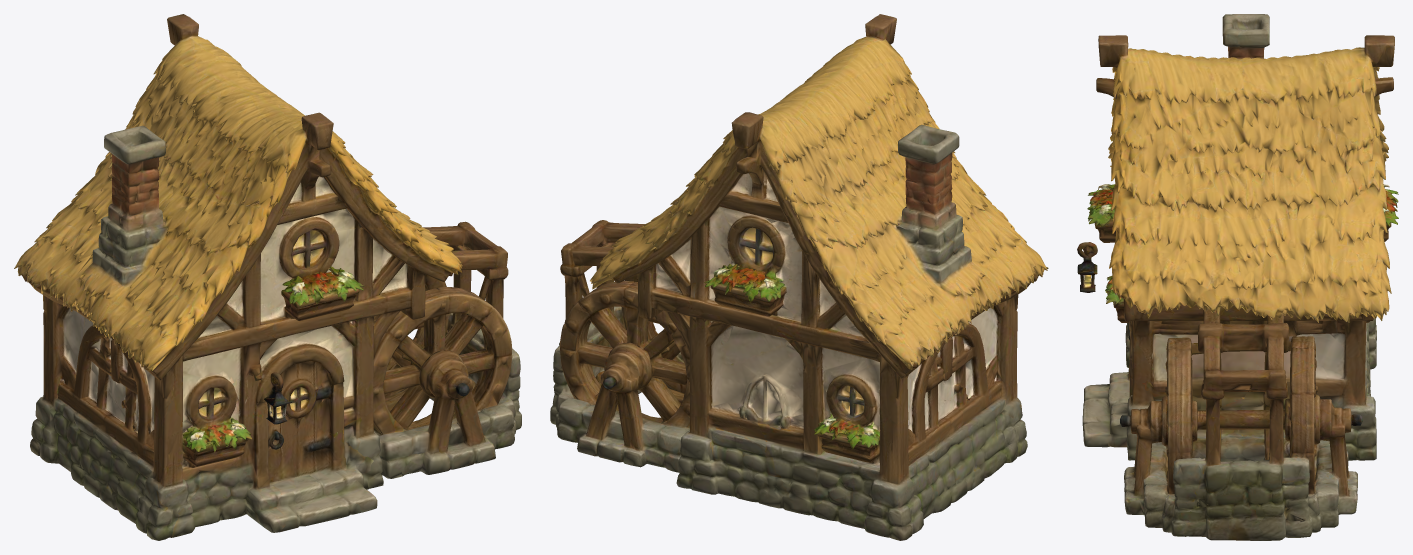
Rendered from bywater-mill.glb.
3 renders of one model, left to right at view 1: azimuth 30°, elevation 25°; view 2: azimuth 150°, elevation 25°; view 3: azimuth 270°, elevation 25°, orthographic.
Bounding box in the file's own units: 1.9 × 1.71 × 1.29.
1 material, 1 textured.
